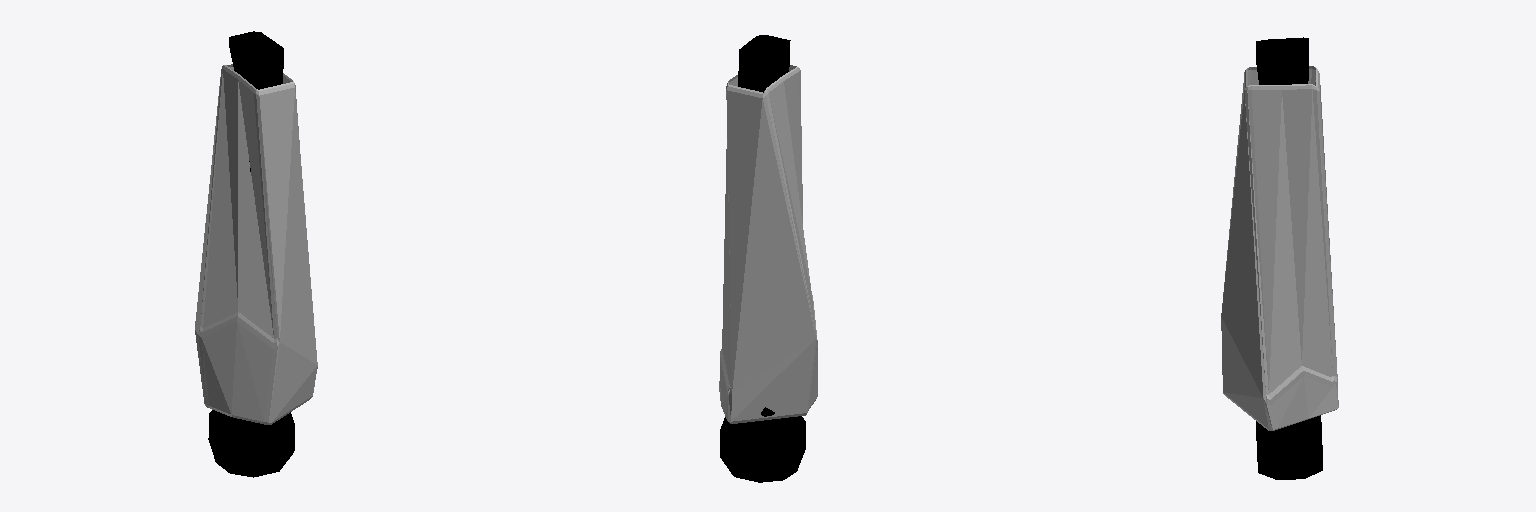
File: Down_Arm_Right.obj
3 views of the same model, side by side, from view 1: azimuth 30°, elevation 25°; view 2: azimuth 150°, elevation 25°; view 3: azimuth 270°, elevation 25° (orthographic).
Parts seen in each view (by area): view 1: down_arm_right, joint_down_arm_Right; view 2: down_arm_right, joint_down_arm_Right; view 3: down_arm_right, joint_down_arm_Right.
Part boxes in pixels (x1,y1,x2,y2): down_arm_right: (195, 64, 317, 424); joint_down_arm_Right: (208, 31, 294, 477); down_arm_right: (719, 65, 817, 423); joint_down_arm_Right: (720, 35, 805, 482); down_arm_right: (1221, 66, 1338, 430); joint_down_arm_Right: (1256, 37, 1322, 479).
Bounding box in the file's own units: 0.2947 × 1.09 × 0.2738.